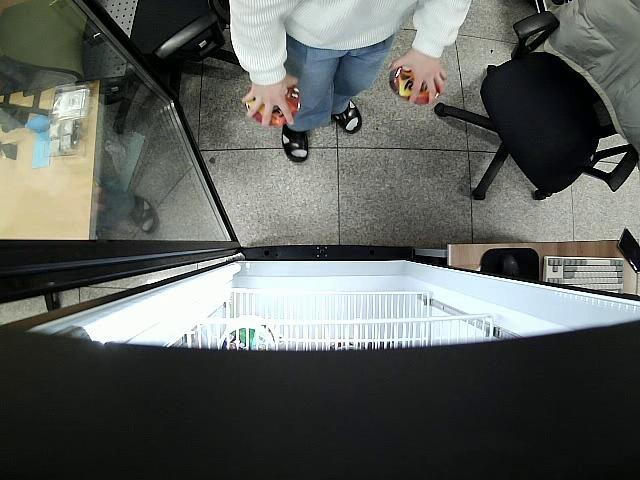05_nuguri_L: (244, 87, 302, 126), (390, 66, 441, 106)
